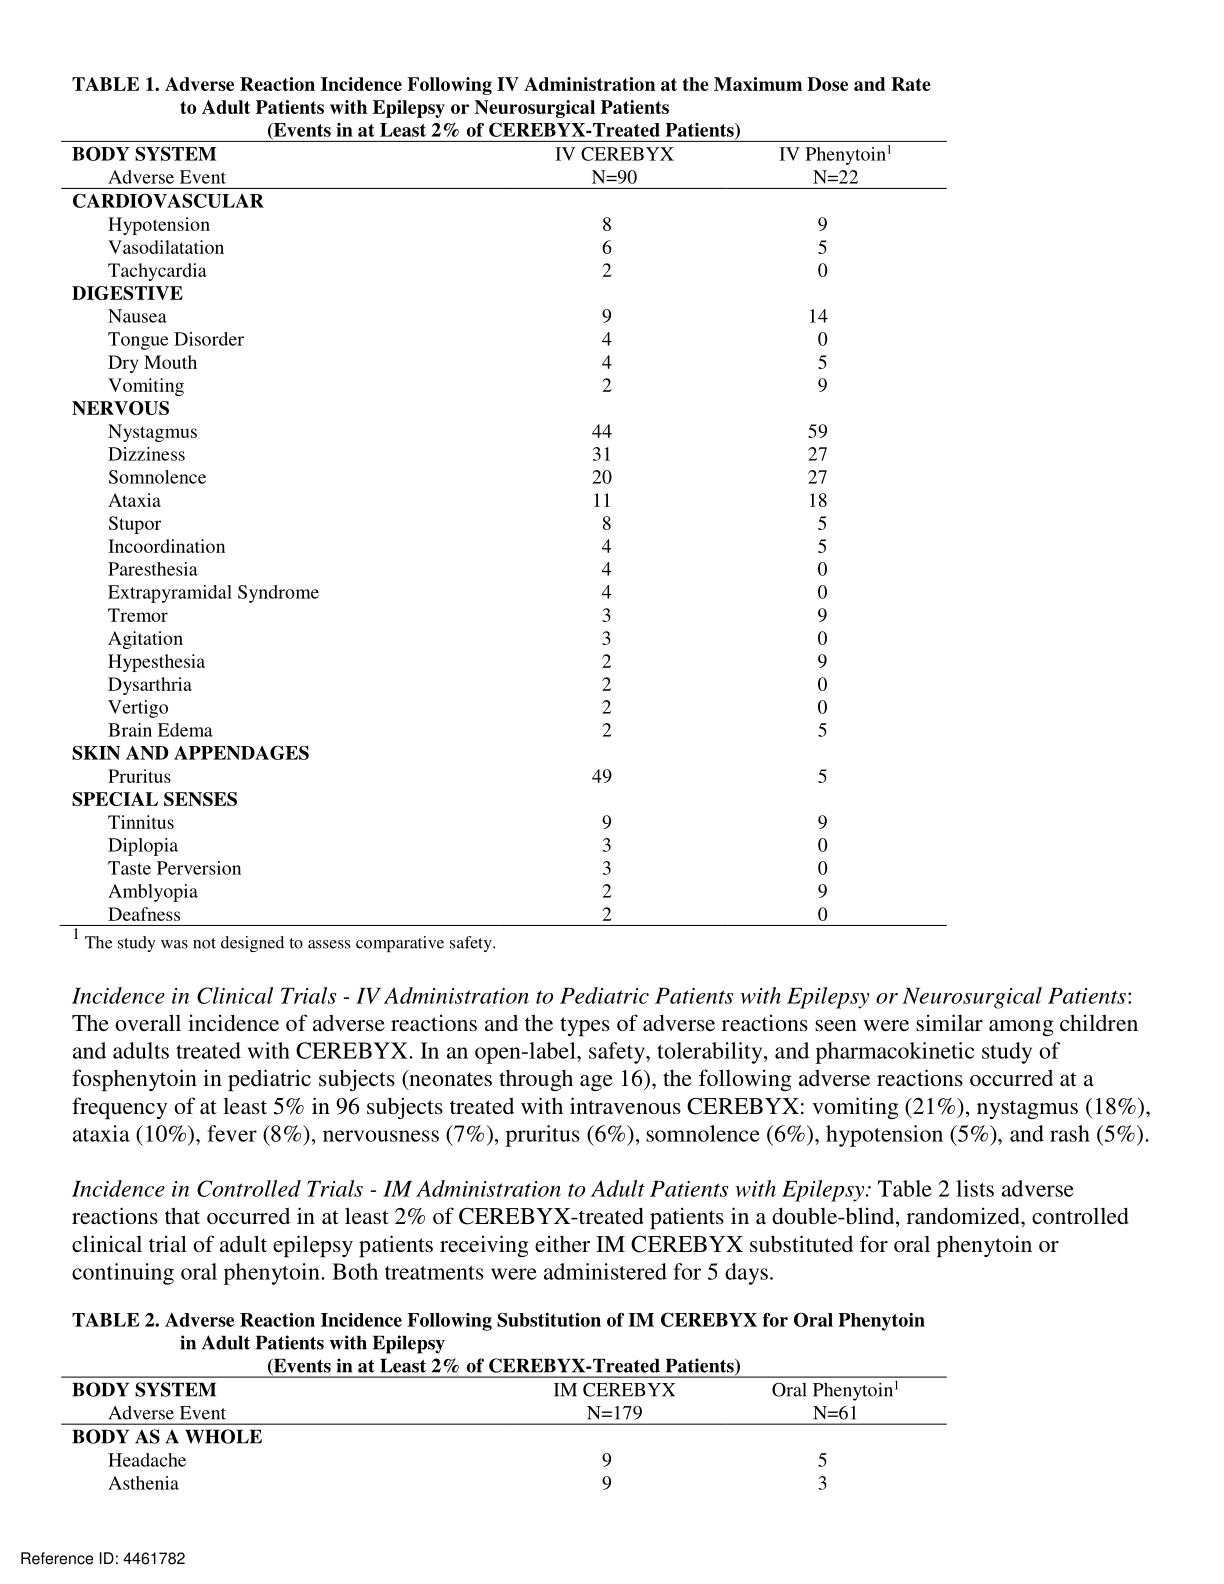partial_lined: (58, 139, 951, 930), (58, 1373, 950, 1498)
